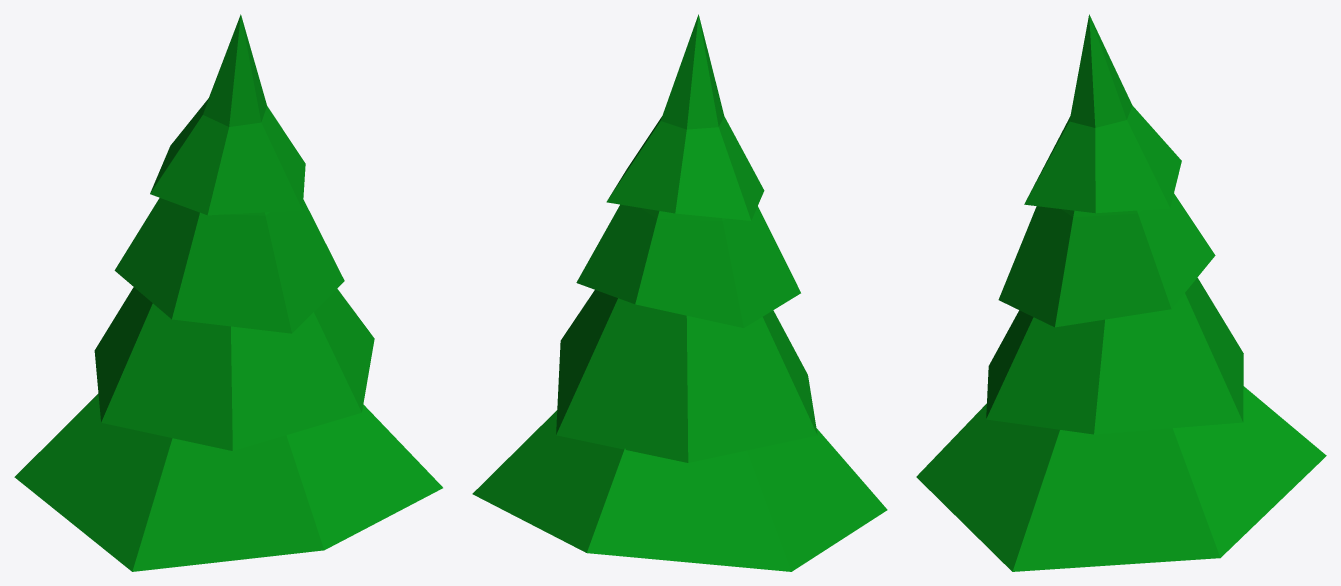
File: tree_pine3.fbx
The picture shows the model from 3 angles, left to right: view 1: azimuth 30°, elevation 25°; view 2: azimuth 150°, elevation 25°; view 3: azimuth 270°, elevation 25°; orthographic projection.
Parts seen in each view (by area): view 1: tree_pine1.001; view 2: tree_pine1.001; view 3: tree_pine1.001.
Part boxes in pixels (x1,y1,x2,y2): tree_pine1.001: (14,14,442,571); tree_pine1.001: (472,14,887,571); tree_pine1.001: (916,14,1326,571).
Size of the model in its own units: 1.82 by 2.74 by 2.03.
